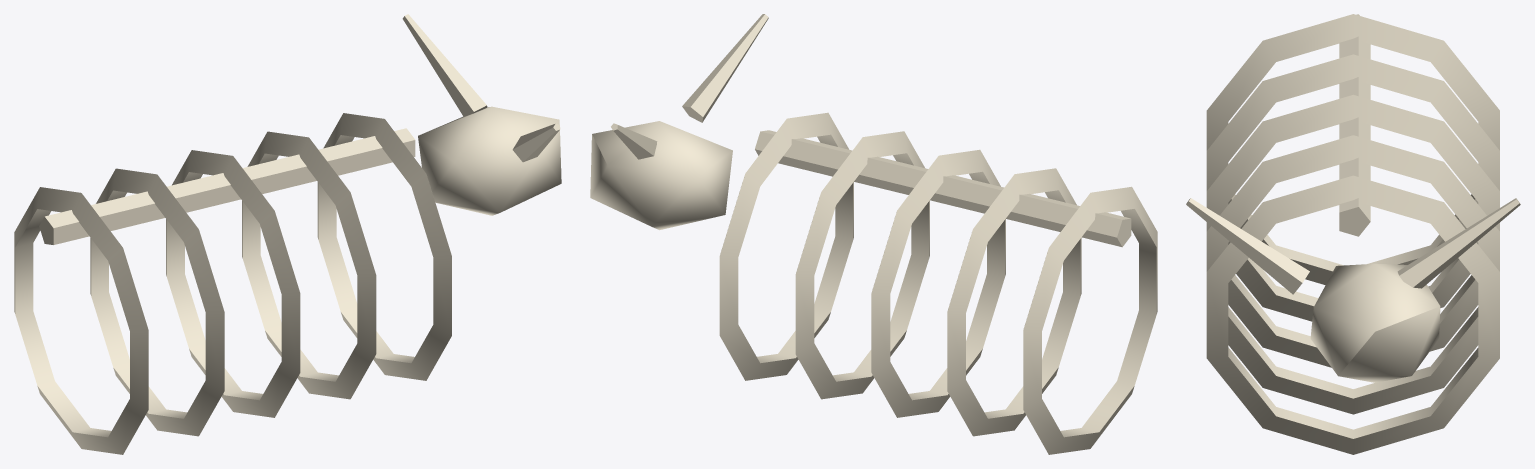
File: Bones.fbx
The picture shows the model from 3 angles, left to right: view 1: azimuth 30°, elevation 25°; view 2: azimuth 150°, elevation 25°; view 3: azimuth 270°, elevation 25°; orthographic projection. The views are drawn at different scales.
Visible parts, largest first — view 1: Bones; view 2: Bones; view 3: Bones.
Part boxes in pixels (x1=…): Bones: x1=14, y1=14, x2=561, y2=454; Bones: x1=590, y1=14, x2=1157, y2=454; Bones: x1=1186, y1=14, x2=1520, y2=454.
Bounding box in the file's own units: 1.52 × 0.7831 × 0.7711.
